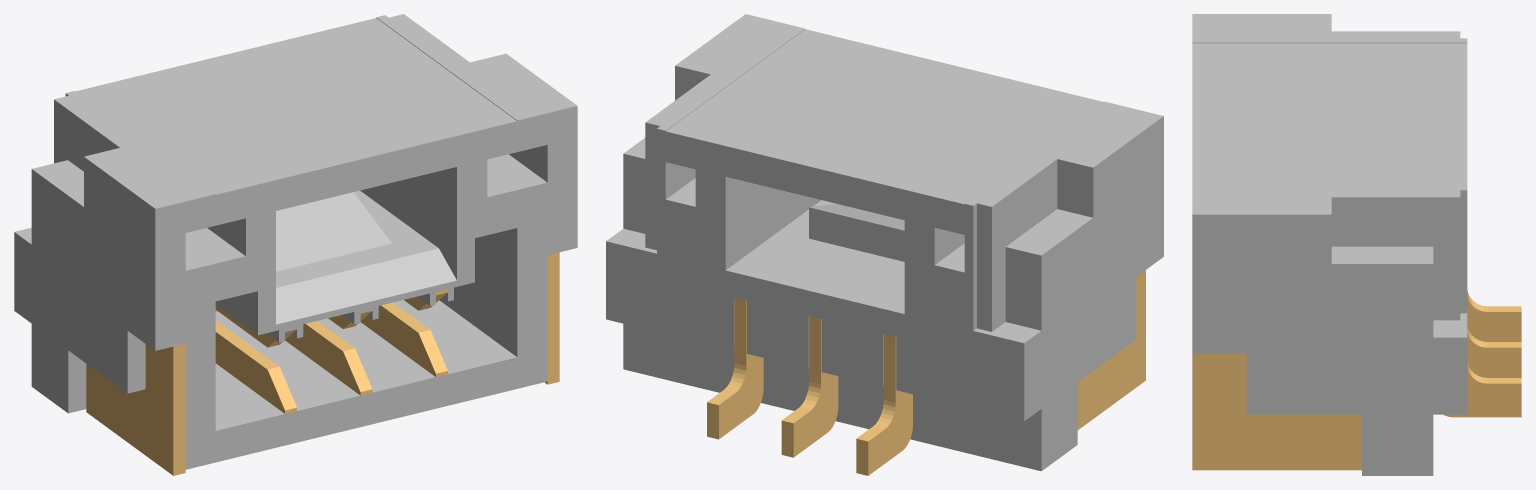
Rendered from SM03B-GHS-TB.obj.
3 views of the same model, side by side, from view 1: azimuth 30°, elevation 25°; view 2: azimuth 150°, elevation 25°; view 3: azimuth 270°, elevation 25° (orthographic). The views are drawn at different scales.
Parts seen in each view (by area): view 1: SM03B-GHS-TB; view 2: SM03B-GHS-TB; view 3: SM03B-GHS-TB.
Boxes of the visible parts, x1=… form: SM03B-GHS-TB: x1=14, y1=14, x2=577, y2=475; SM03B-GHS-TB: x1=606, y1=14, x2=1163, y2=475; SM03B-GHS-TB: x1=1192, y1=14, x2=1521, y2=475.
Bounding box in the file's own units: 0.0188 × 0.0115 × 0.013.
